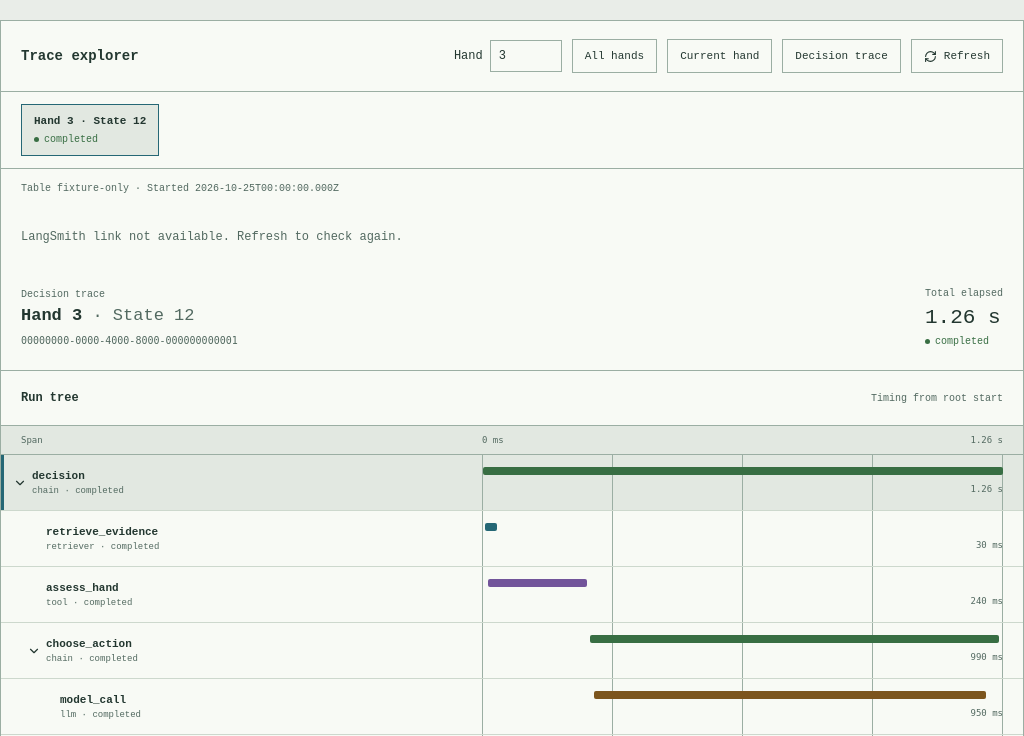
Test case: trace requests and selection › manually refreshes a completed trace to discover a delayed LangSmith link
This screenshot has width=1024, height=736.
Expected: the text "LangSmith link not available. Refresh to check again." is shown, [21,230,403,244]
Expected: the link "Open in LangSmith" is not shown
Click the button "Refresh" at point(957, 56), box [911,39,1003,73]
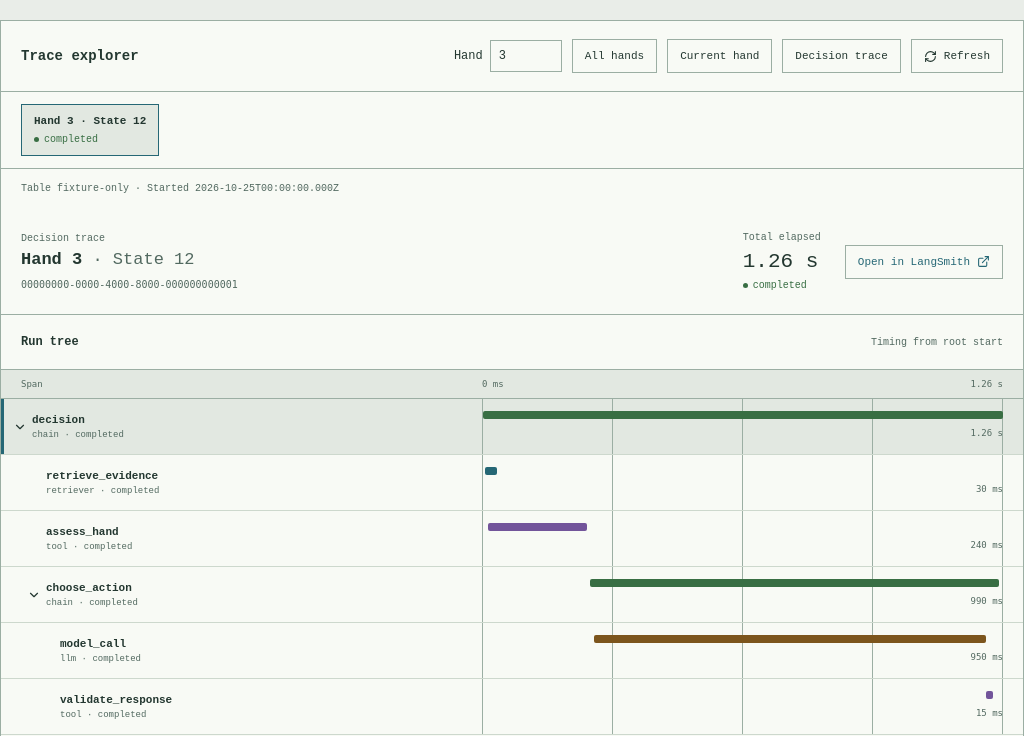
Expected: the link "Open in LangSmith" is shown, [845,244,1003,278]
Expected: the text "LangSmith link not available. Refresh to check again." is gone
